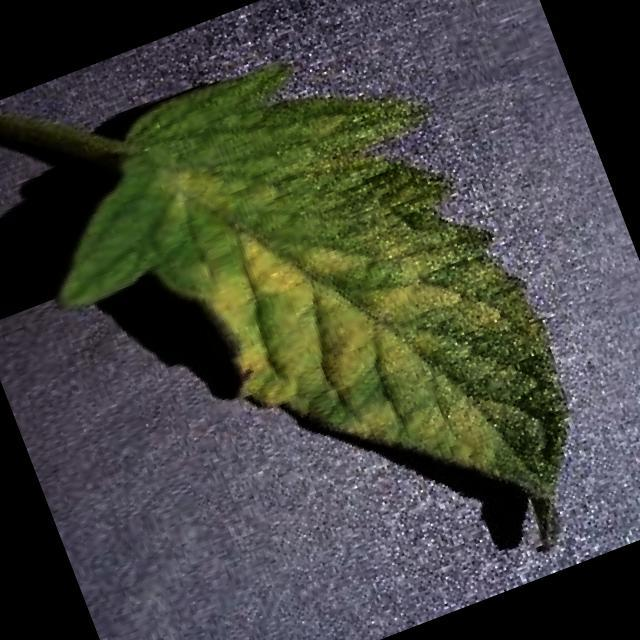Tomato mold leaf: (5, 3, 622, 640)
